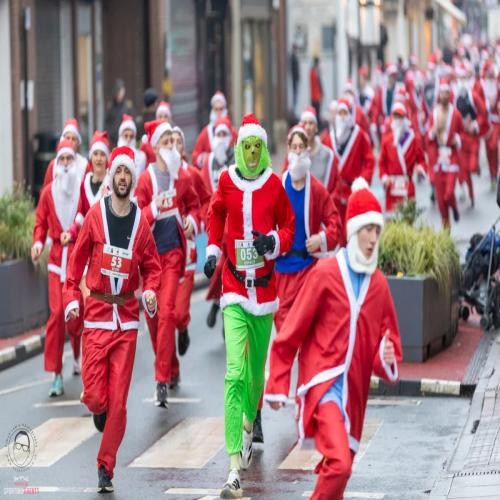Santa: (265, 173, 404, 500), (61, 152, 162, 491), (135, 118, 200, 417), (274, 122, 344, 332), (31, 139, 87, 398), (58, 130, 110, 269), (378, 98, 423, 230), (428, 78, 466, 234), (196, 114, 235, 250), (323, 97, 374, 198), (282, 106, 337, 194), (456, 64, 485, 210), (193, 88, 234, 167), (41, 117, 84, 188), (480, 54, 500, 204), (112, 113, 146, 190), (408, 50, 434, 145), (338, 76, 368, 138), (168, 120, 189, 167), (154, 98, 174, 128), (427, 50, 447, 78), (356, 60, 372, 94), (387, 53, 400, 93)
